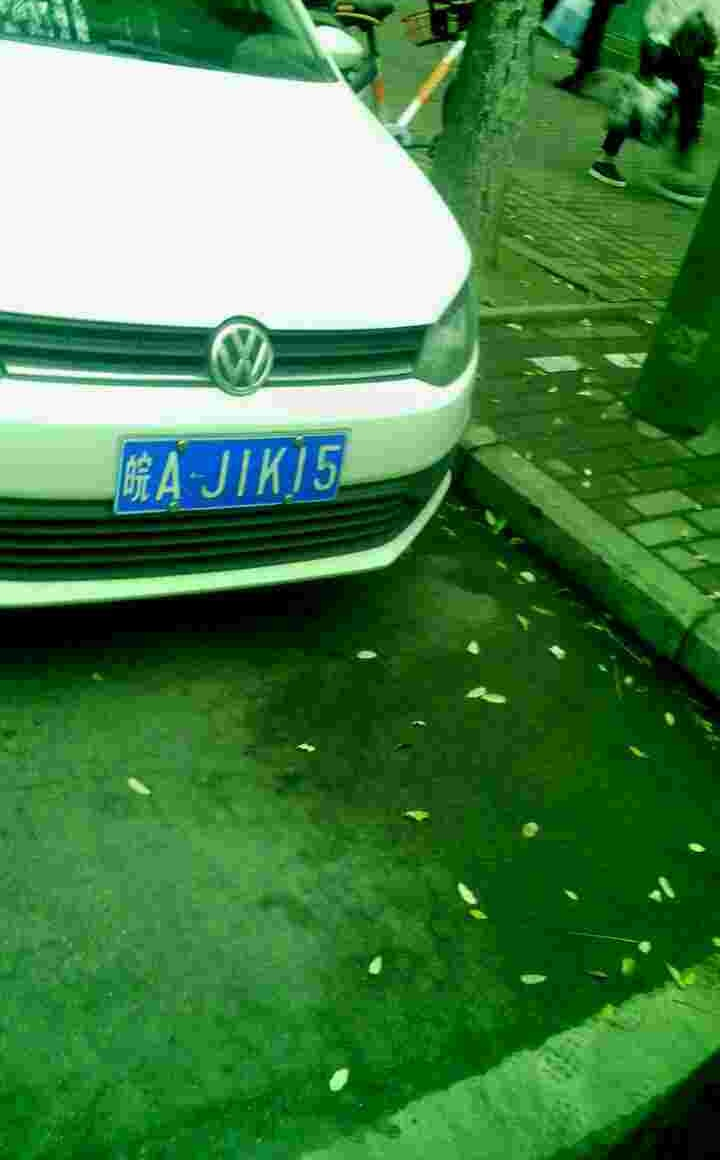car: (114, 434, 340, 514)
